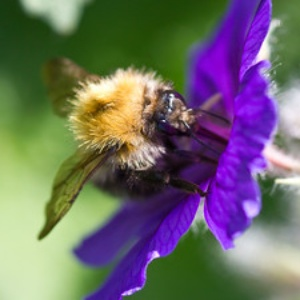bee: (43, 56, 216, 232)
